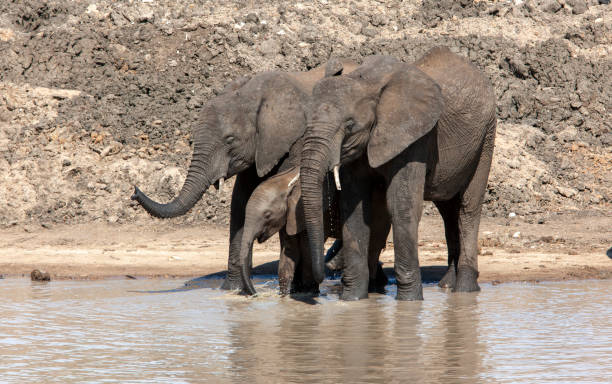africanelephant: (288, 72, 385, 206), (182, 99, 258, 208)
